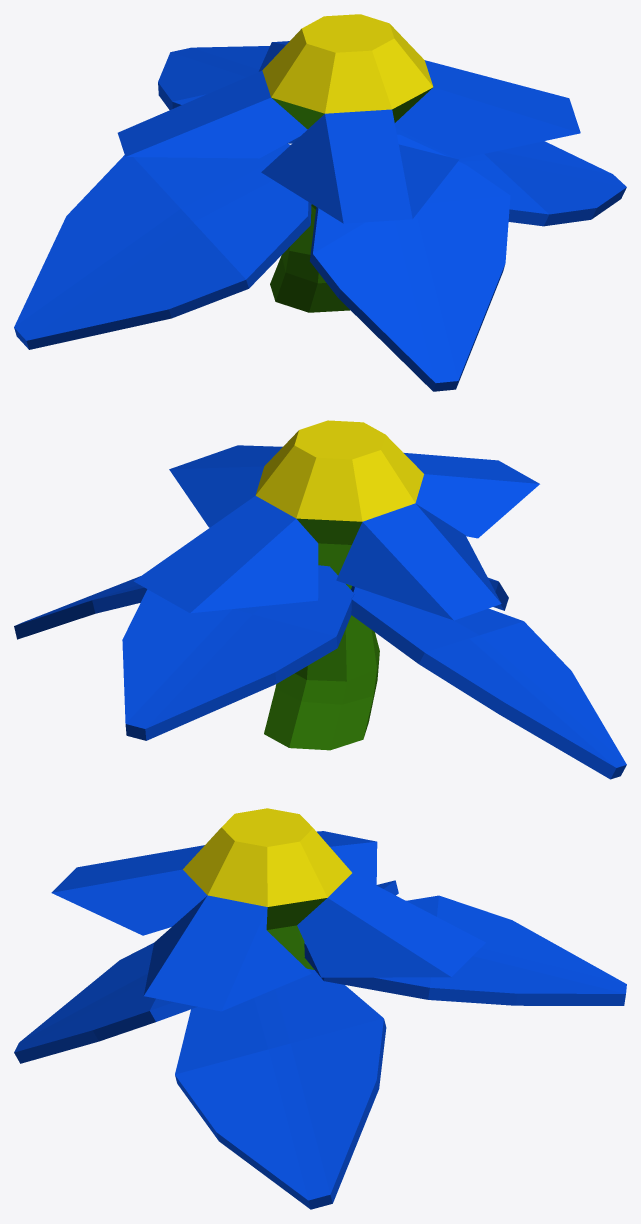
Rendered from flor_a_1.fbx.
3 renders of one model, top to bottom at view 1: azimuth 30°, elevation 25°; view 2: azimuth 150°, elevation 25°; view 3: azimuth 270°, elevation 25°, orthographic. The views are drawn at different scales.
Visible parts, largest first — view 1: Cylinder.004; view 2: Cylinder.004; view 3: Cylinder.004.
Boxes of the visible parts, left/top/right/bottom form: Cylinder.004: left=14, top=14, right=626, bottom=391; Cylinder.004: left=14, top=420, right=626, bottom=779; Cylinder.004: left=14, top=808, right=626, bottom=1209.
Bounding box in the file's own units: 78.94 × 34.12 × 71.96.
